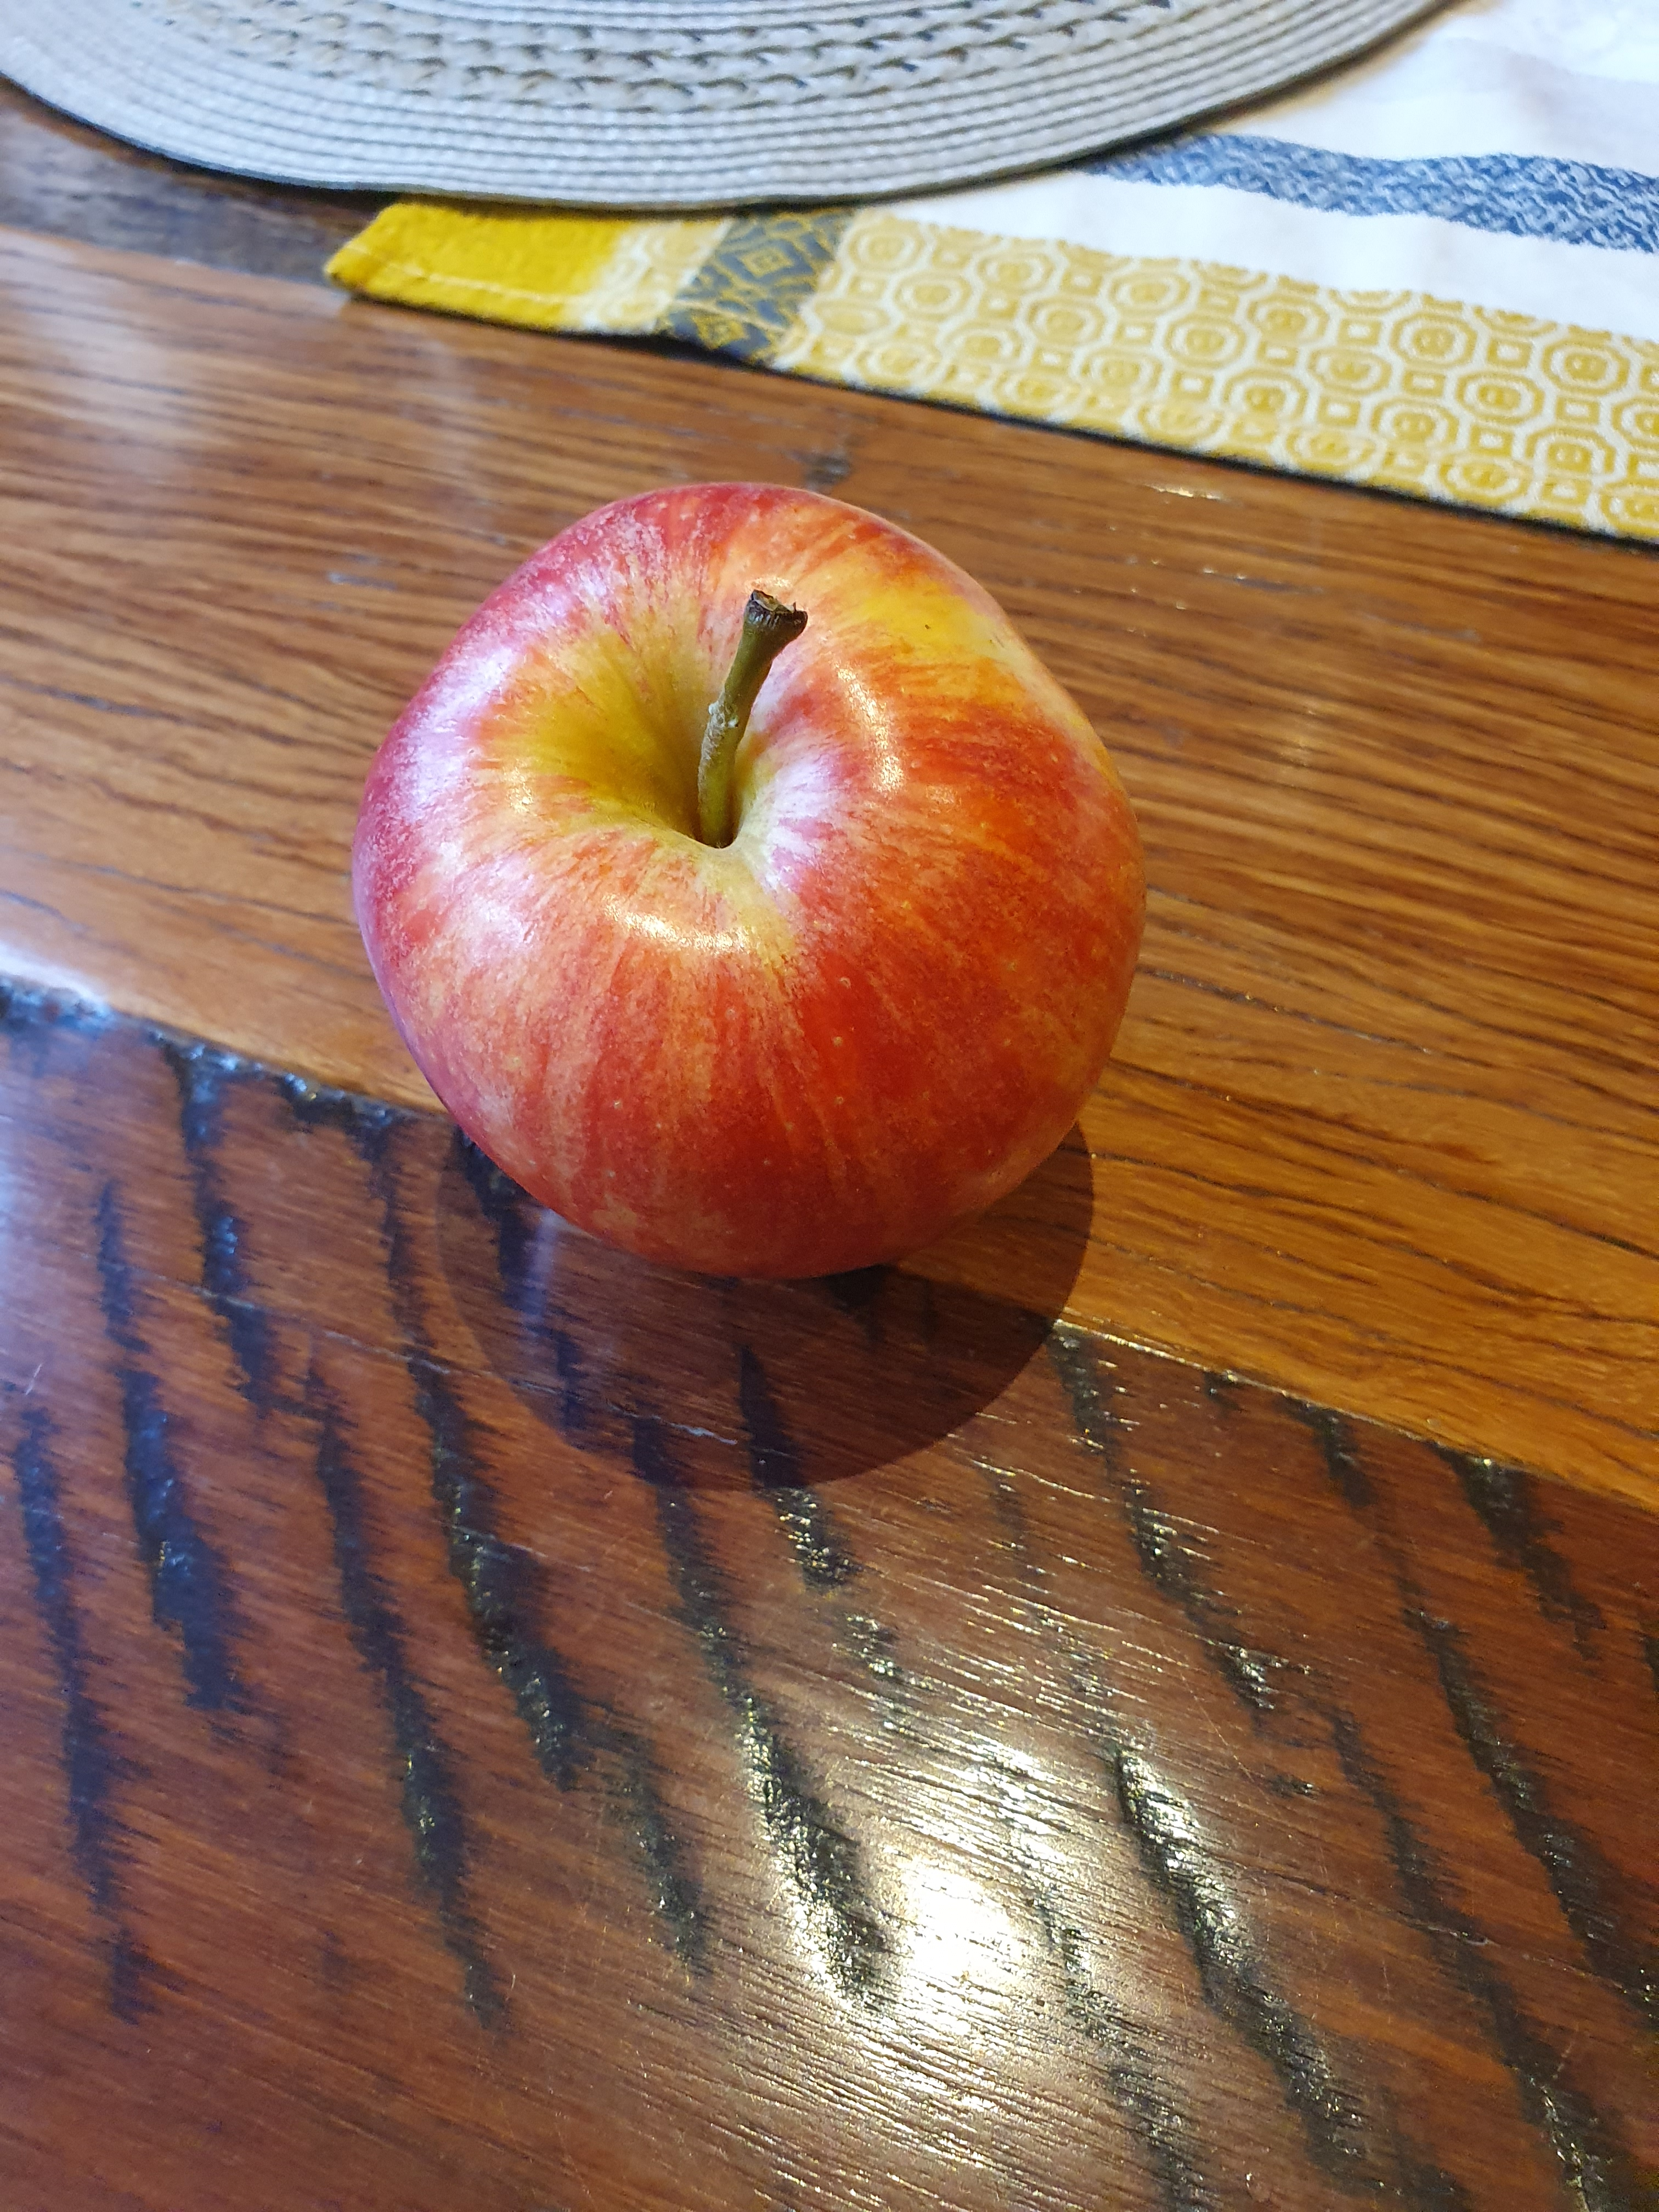red apple: (301, 449, 1208, 1317)
